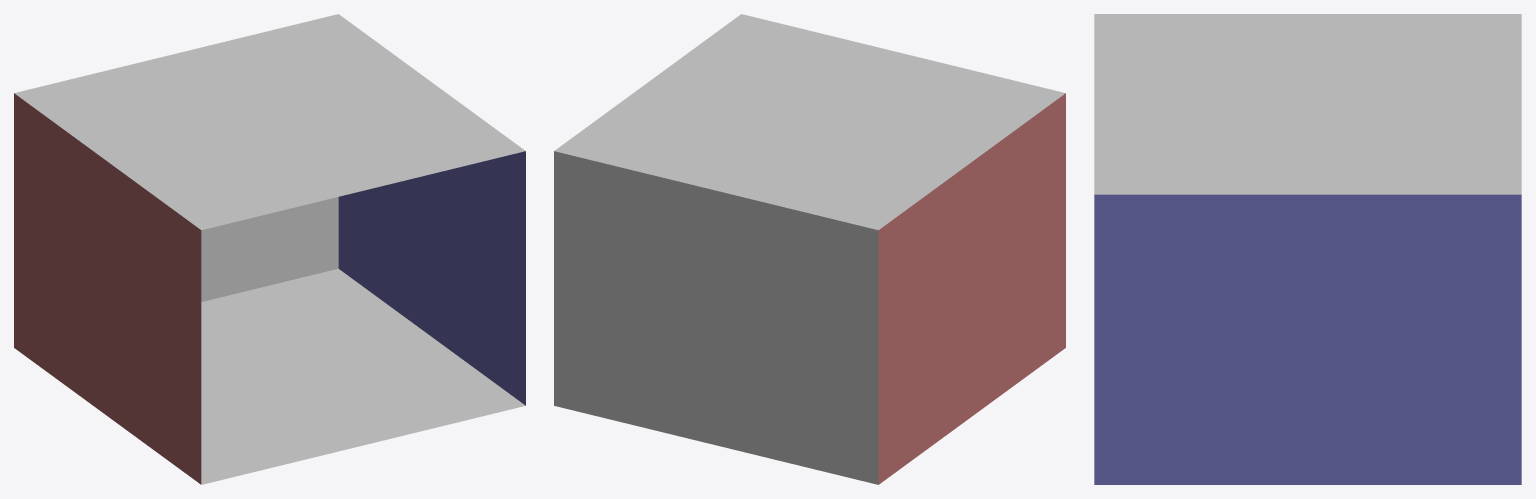
3 views of the same model, side by side, from view 1: azimuth 30°, elevation 25°; view 2: azimuth 150°, elevation 25°; view 3: azimuth 270°, elevation 25° (orthographic). The views are drawn at different scales.
Parts seen in each view (by area): view 1: ceiling, leftWall, floor, rightWall, backWall; view 2: backWall, ceiling, leftWall; view 3: rightWall, ceiling.
Boxes of the visible parts, box(x1,y1,x2,y2) form: ceiling: box(14, 14, 525, 230); leftWall: box(14, 93, 201, 484); floor: box(201, 268, 525, 484); rightWall: box(338, 151, 525, 405); backWall: box(201, 197, 338, 301); backWall: box(554, 151, 878, 484); ceiling: box(554, 14, 1065, 230); leftWall: box(878, 93, 1065, 484); rightWall: box(1094, 194, 1521, 484); ceiling: box(1094, 14, 1521, 194).
Bounding box in the file's own units: 2 × 1.5 × 2.
